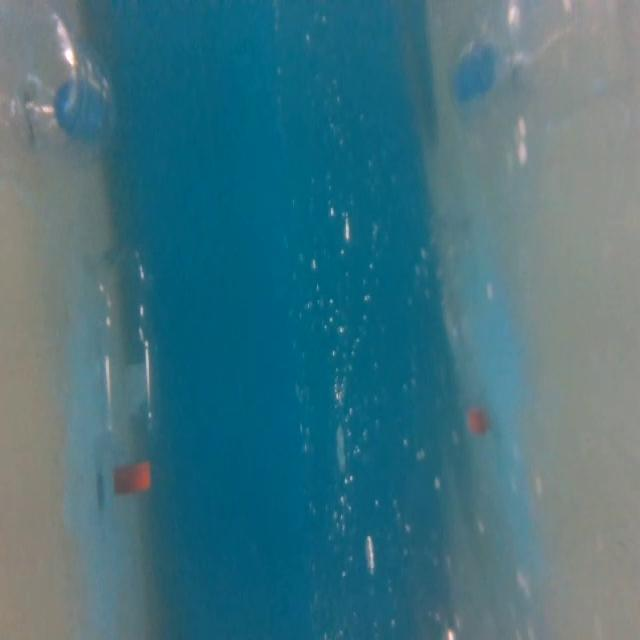plastic bottle: (88, 240, 169, 499), (1, 25, 124, 165)
